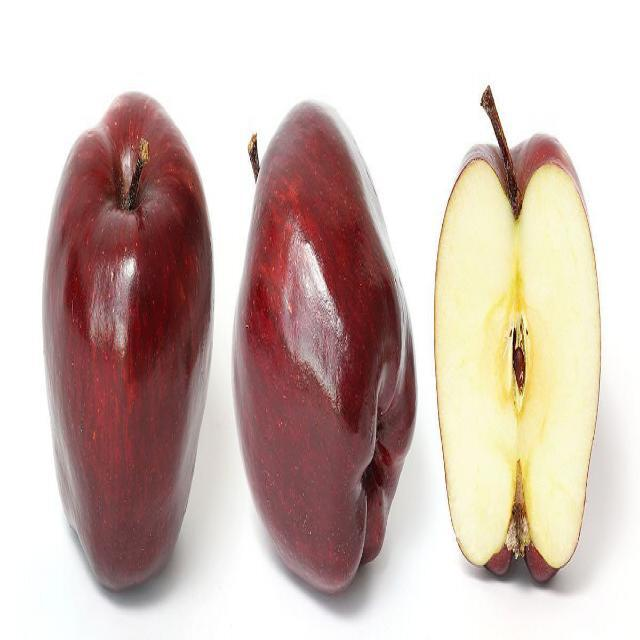Fresh Apple: (228, 145, 412, 590), (47, 102, 203, 610)
